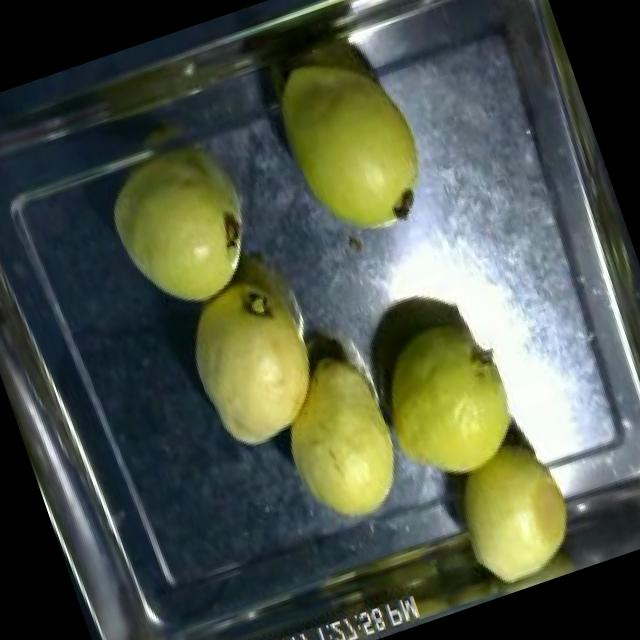Fruit: (247, 23, 453, 264), (154, 234, 354, 470), (352, 276, 548, 505), (87, 124, 281, 329), (250, 332, 420, 546), (424, 414, 602, 605)
